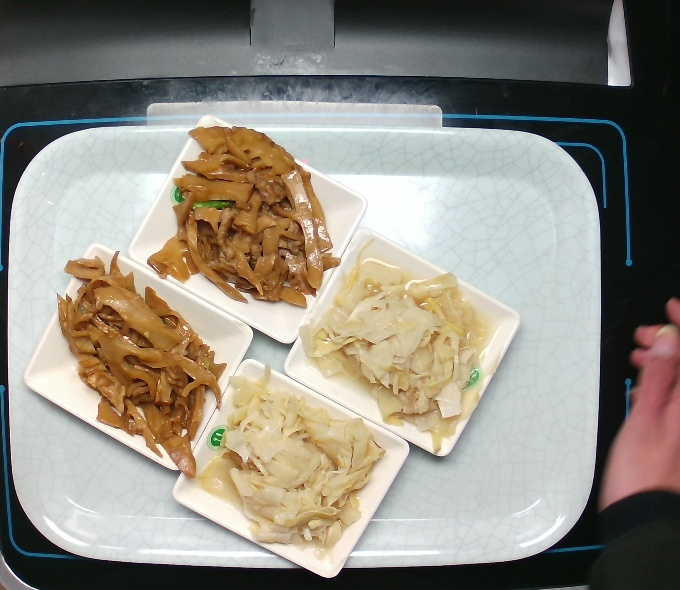wcq-LuSun: (302, 248, 504, 455), (202, 367, 387, 561)
wcq-SunGan: (54, 248, 223, 482), (145, 117, 345, 314)
